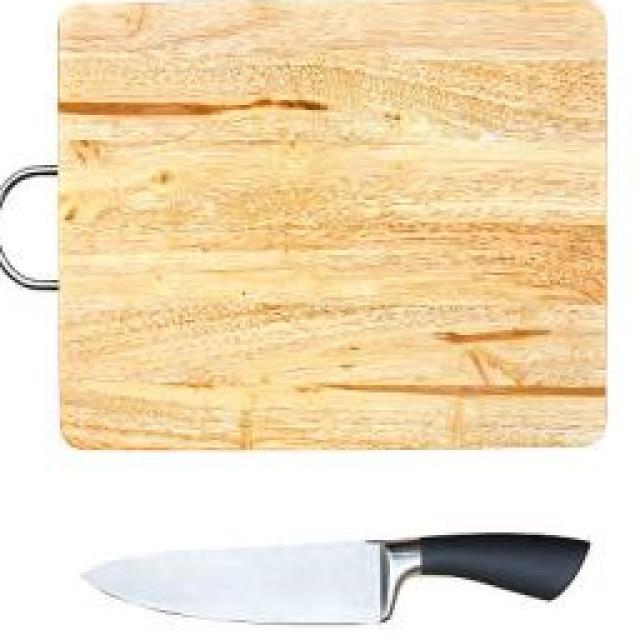knife: (82, 532, 592, 628)
